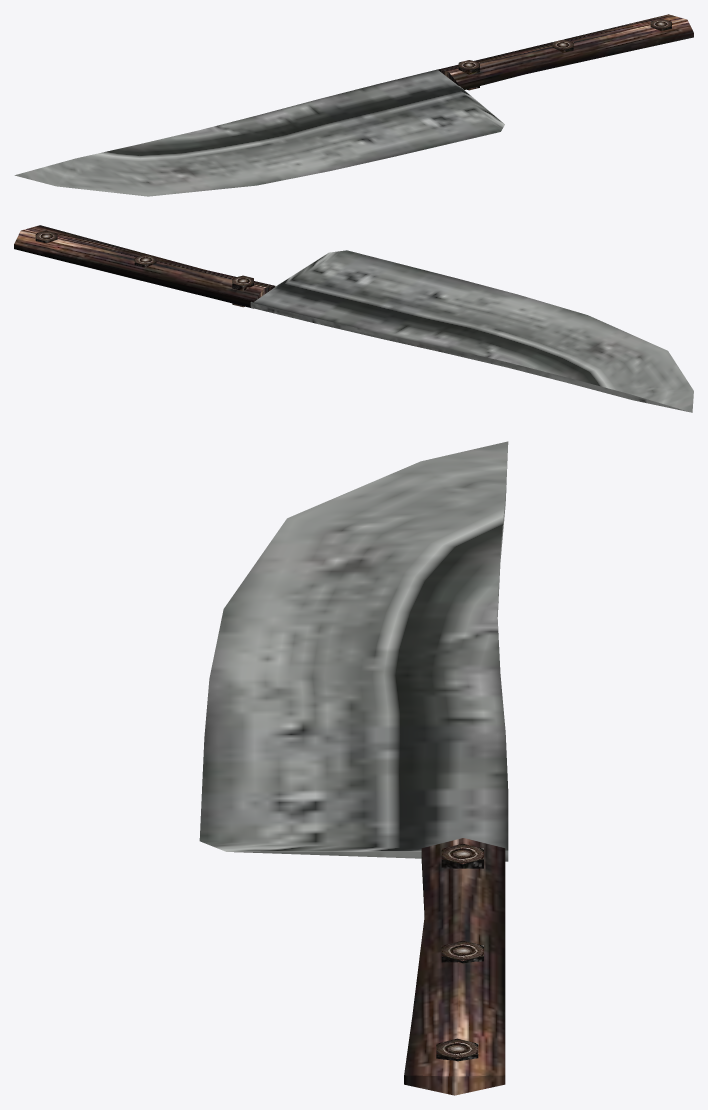
File: KM_ITMW_LAKOMY_1H_KITCHEN_KNIFE_02.glb
The picture shows the model from 3 angles, top to bottom: view 1: azimuth 30°, elevation 25°; view 2: azimuth 150°, elevation 25°; view 3: azimuth 270°, elevation 25°; orthographic projection. The views are drawn at different scales.
Visible parts, largest first — view 1: KM_ITMW_LAKOMY_1H_KITCHEN_KNIFE_02; view 2: KM_ITMW_LAKOMY_1H_KITCHEN_KNIFE_02; view 3: KM_ITMW_LAKOMY_1H_KITCHEN_KNIFE_02.
Boxes of the visible parts, x1,y1,x2,y2 form: KM_ITMW_LAKOMY_1H_KITCHEN_KNIFE_02: (14,14,693,196); KM_ITMW_LAKOMY_1H_KITCHEN_KNIFE_02: (14,225,693,412); KM_ITMW_LAKOMY_1H_KITCHEN_KNIFE_02: (199,441,508,1095).
Bounding box in the file's own units: 0.4826 × 0.0141 × 0.0977.
2 materials, 2 textured.
